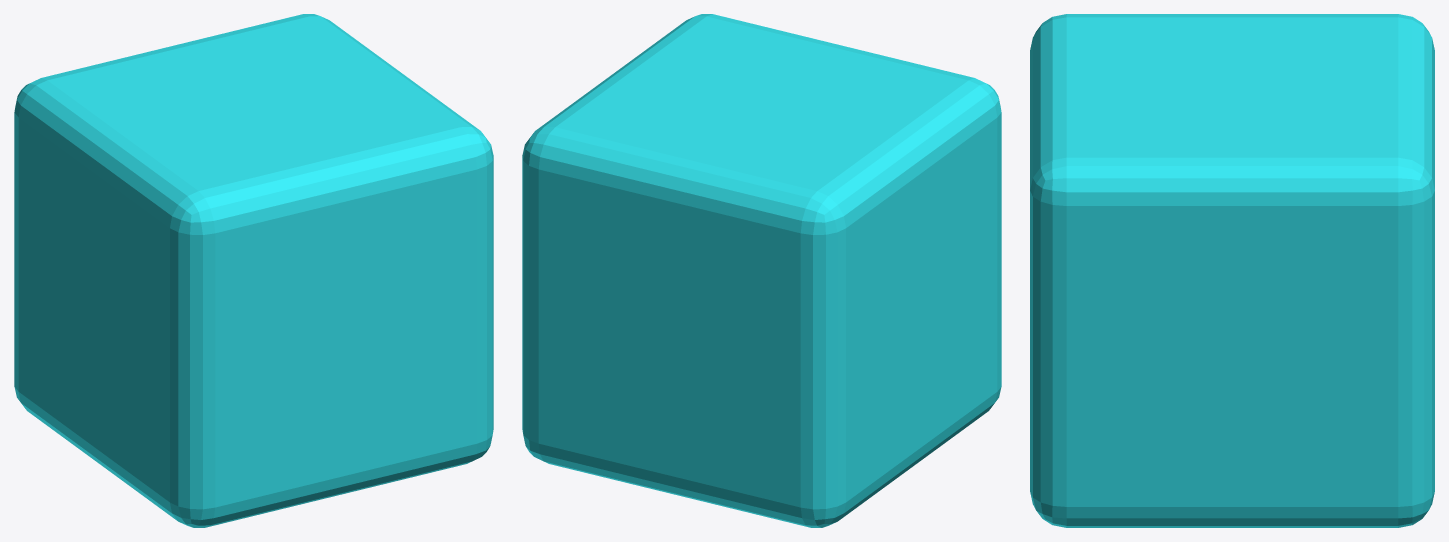
File: Box_blue.fbx
3 renders of one model, left to right at view 1: azimuth 30°, elevation 25°; view 2: azimuth 150°, elevation 25°; view 3: azimuth 270°, elevation 25°, orthographic. The views are drawn at different scales.
Parts seen in each view (by area): view 1: Cube.014; view 2: Cube.014; view 3: Cube.014.
Part boxes in pixels (<box>): Cube.014: <box>14,14,493,527</box>; Cube.014: <box>522,14,1001,527</box>; Cube.014: <box>1030,14,1434,527</box>.
Size of the model in its own units: 38.54 by 38.54 by 38.54.
